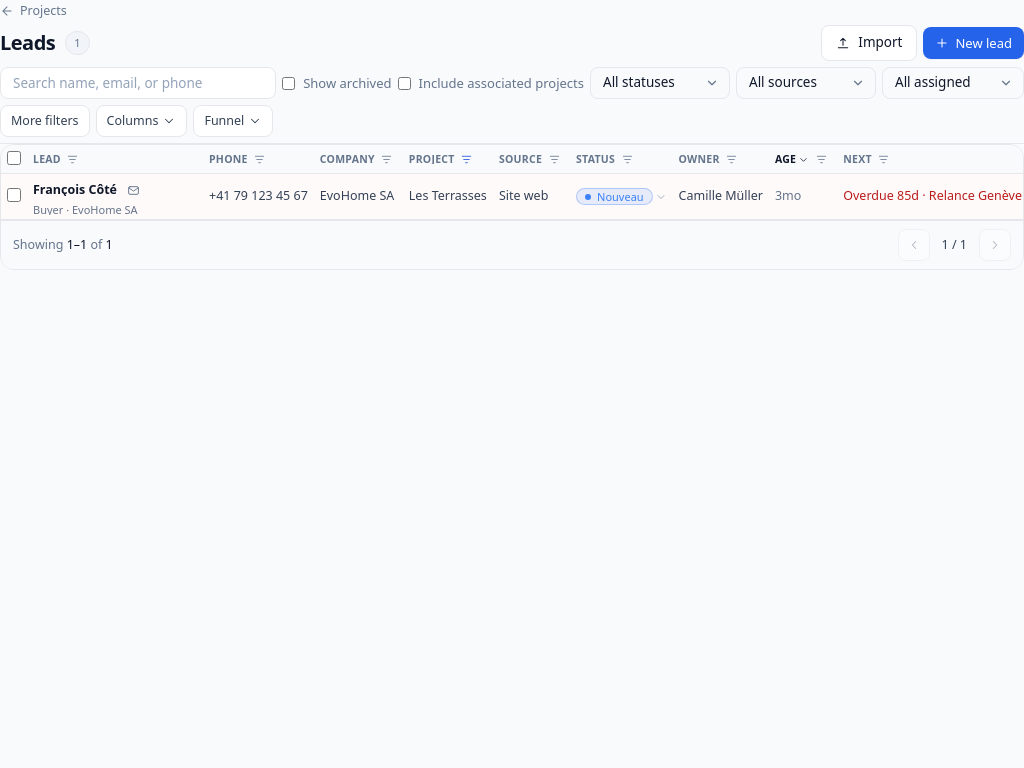
Scenario: LeadsPanel table › locks the project column filter and skips /leads navigation when scoped to a project
Click the button named "Filter Project": (467, 159) top-left (457, 149), bottom-right (477, 169)
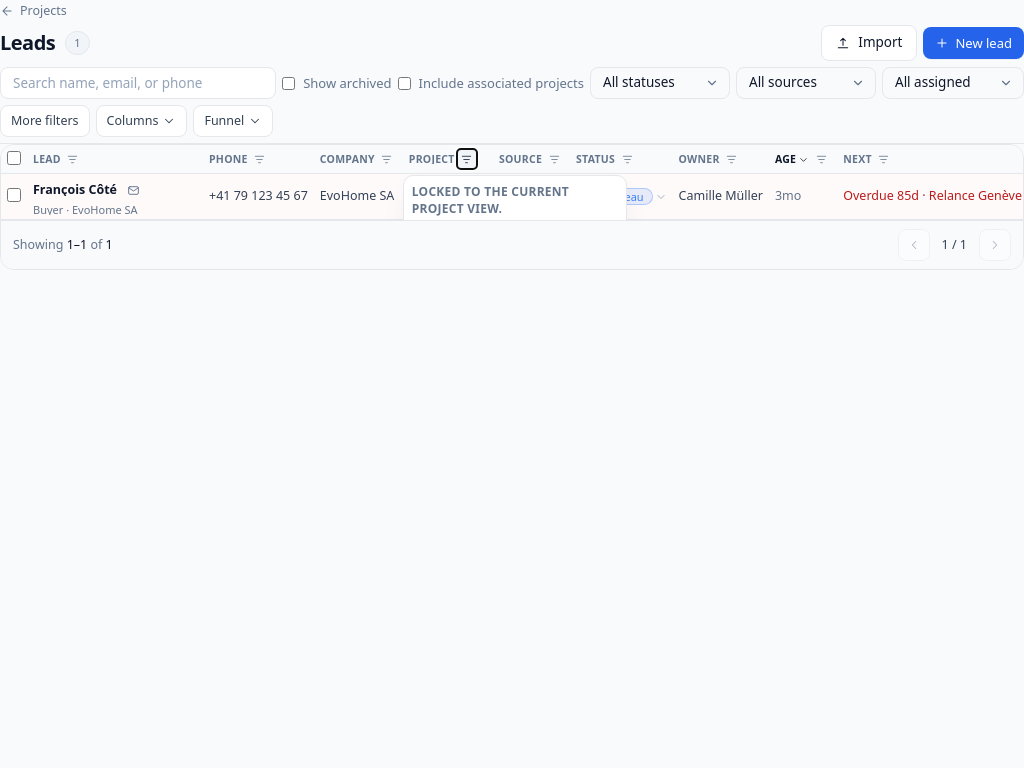
Now the text "Locked to the current project view." is shown, box top-left (412, 183), bottom-right (569, 217)
